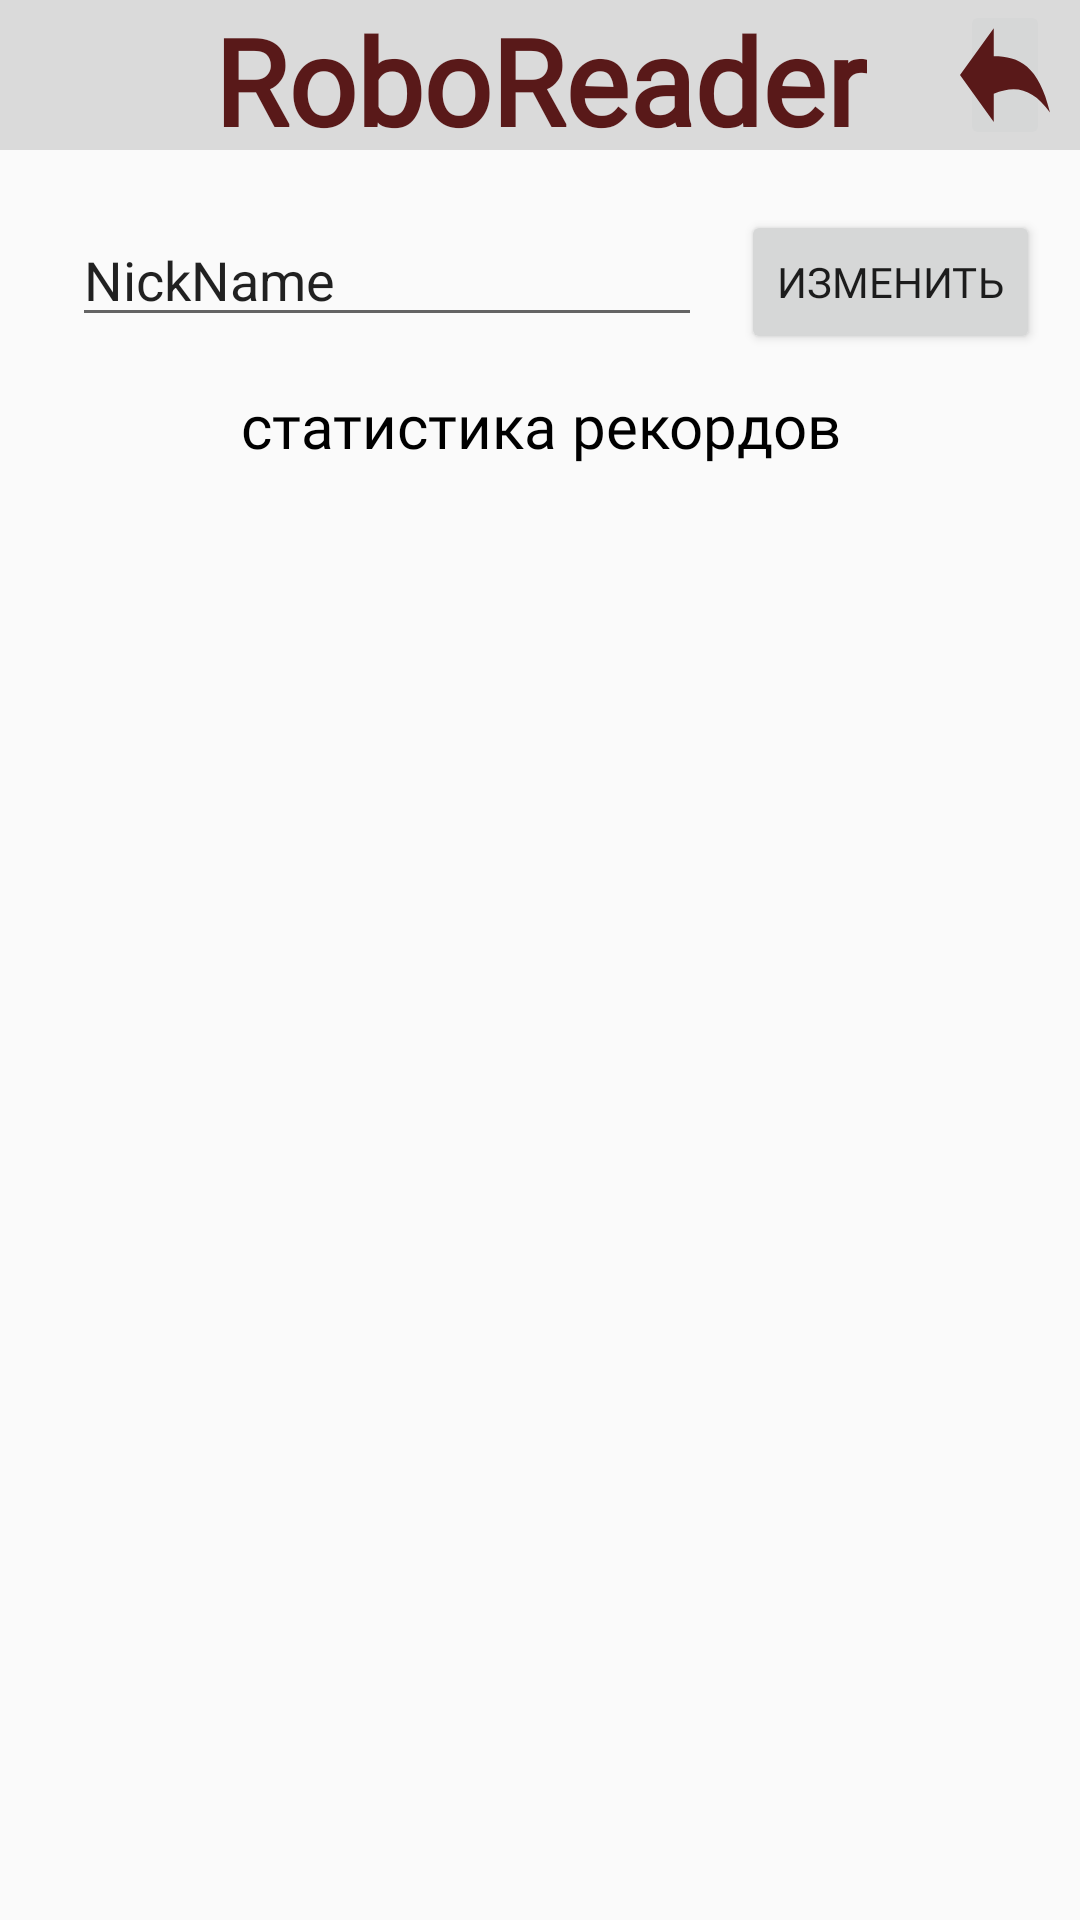

Named icons in this screenshot (1080px×1920px) and their bounding boxes, (x1, y1, x2, y2):
arrow address back: (960, 28, 1050, 122)
